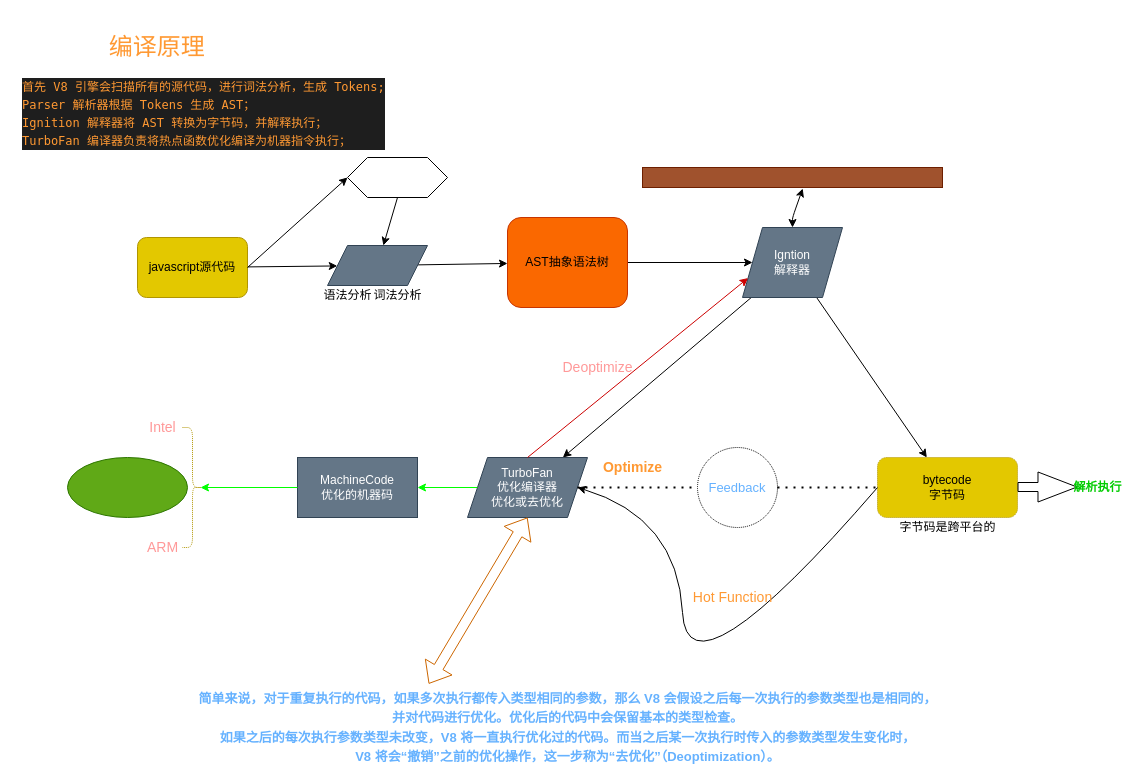
Image size: 1144x784. Some labels were removed from this diagram. The shapes that lost their labels are listed below. From the top down, each one's box as (x1, y1, x2, y2) in pixels, then its label:
(346, 156, 448, 198): preParse 预解析
(642, 166, 942, 188): 获取一些代码执行信息，比如一个函数执行多少次
(326, 244, 428, 286): Parse
(66, 456, 188, 518): 运行结果
